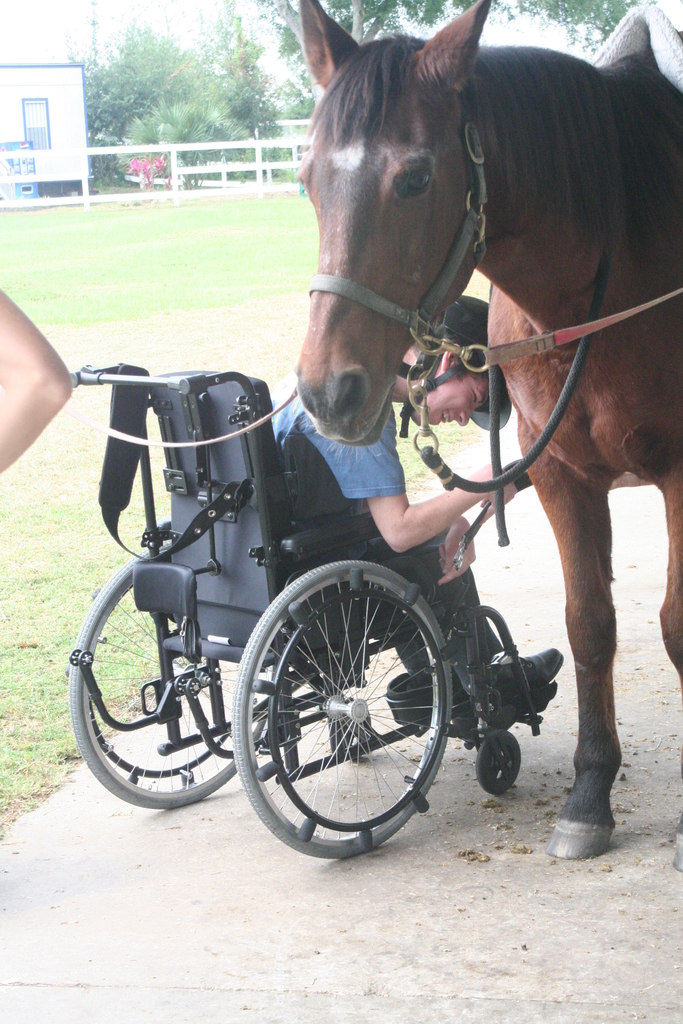face: (425, 370, 488, 429)
